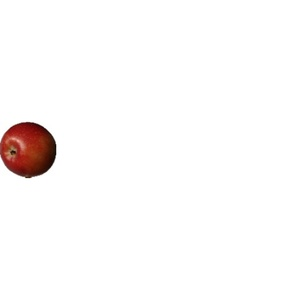maçã braeburn: (2, 120, 57, 178)
